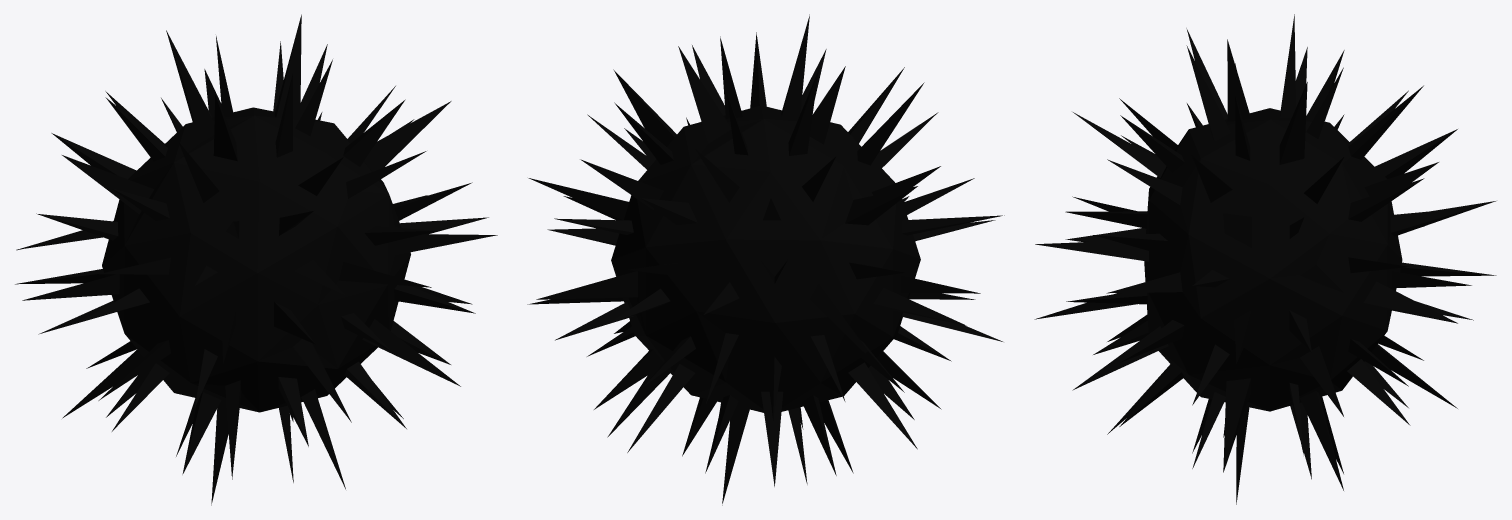
Rendered from SeaUrchin.glb.
3 renders of one model, left to right at view 1: azimuth 30°, elevation 25°; view 2: azimuth 150°, elevation 25°; view 3: azimuth 270°, elevation 25°, orthographic.
Visible parts, largest first — view 1: SeaUrchin; view 2: SeaUrchin; view 3: SeaUrchin.
Part boxes in pixels (bbox=[...]): SeaUrchin: bbox=[15, 14, 497, 505]; SeaUrchin: bbox=[527, 14, 1004, 505]; SeaUrchin: bbox=[1034, 14, 1496, 504].
Size of the model in its own units: 0.2565 by 0.2442 by 0.2402.
1 material, 1 textured.
